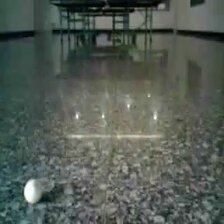w: (23, 178, 44, 203)
